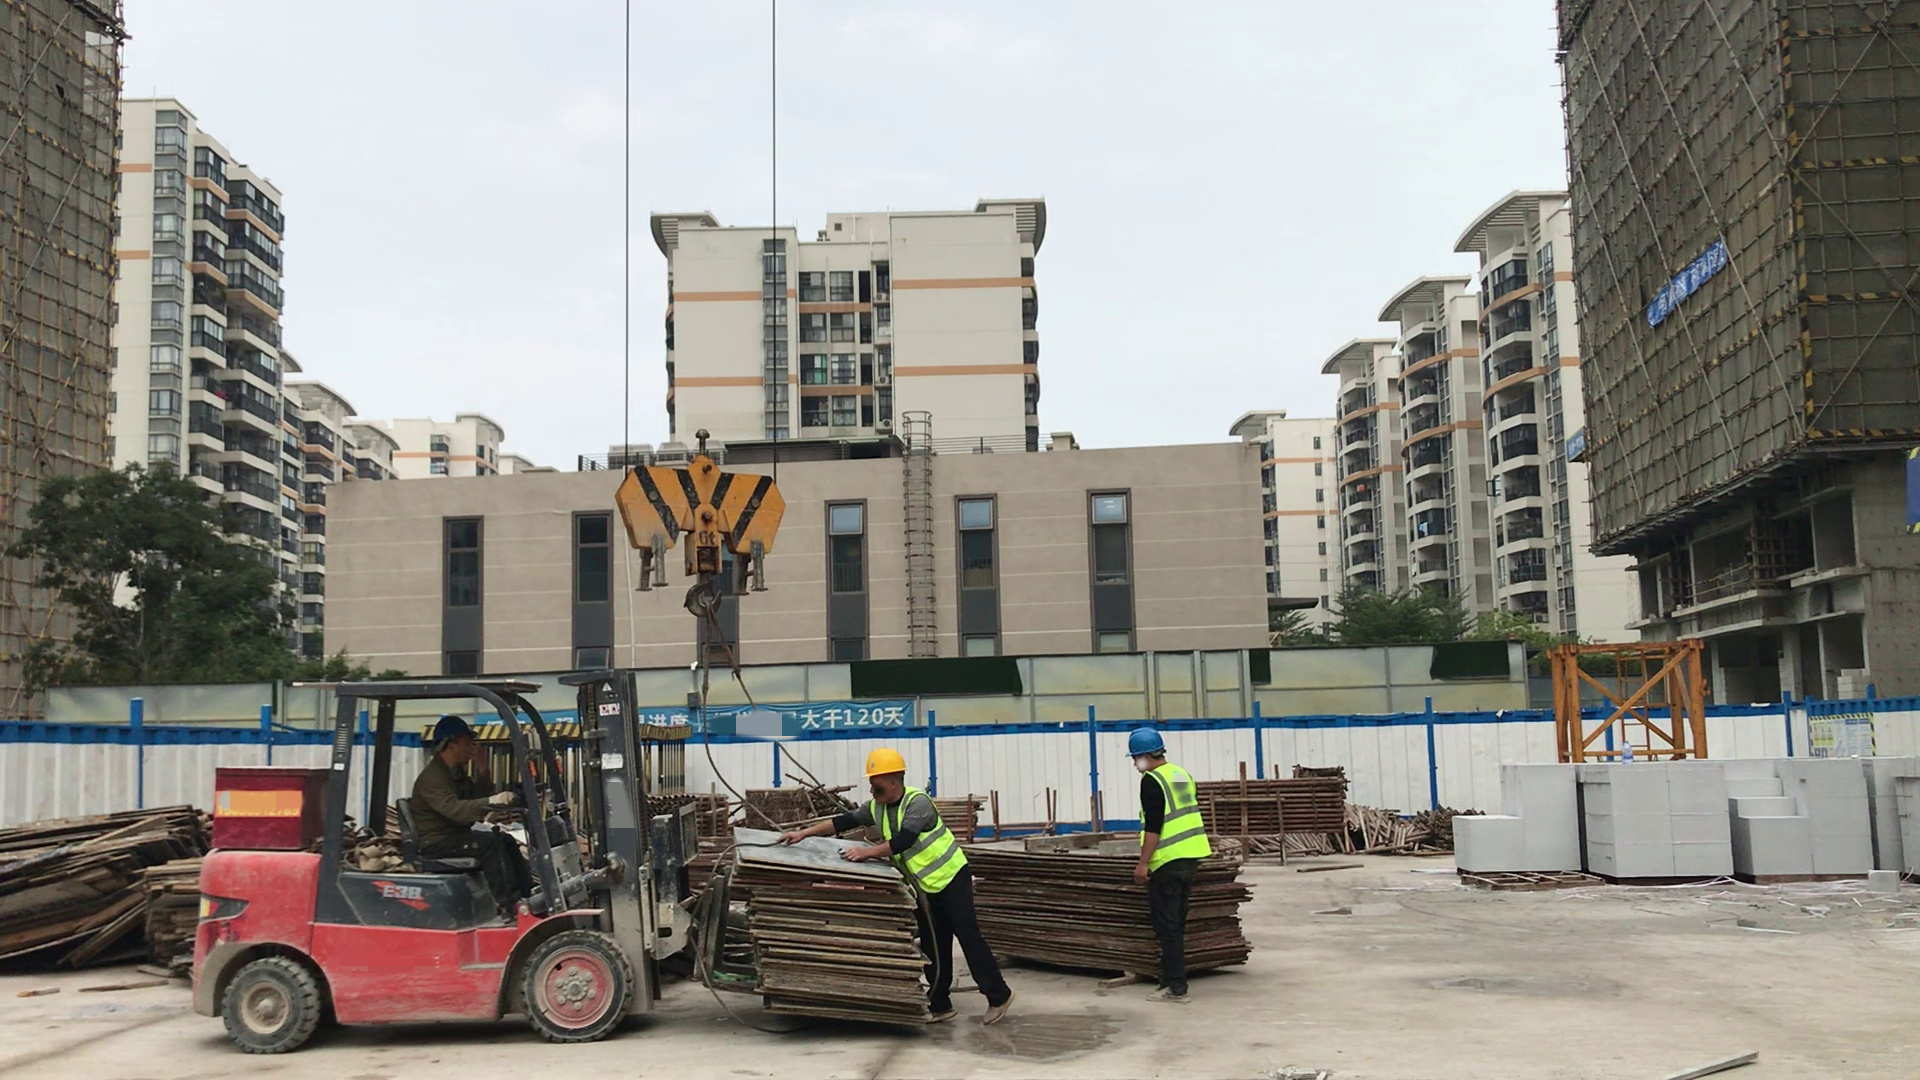board: (941, 808, 1264, 1005), (710, 809, 958, 1045), (2, 780, 213, 1001)
brick: (1441, 745, 1920, 913)
helmet: (417, 707, 475, 758), (861, 749, 920, 788), (1128, 722, 1175, 768)
hook: (599, 431, 837, 619)
person: (770, 729, 1062, 1023), (1097, 703, 1263, 1027), (397, 704, 543, 919)
scaffold: (1196, 770, 1372, 845), (660, 788, 746, 840), (935, 781, 996, 842)
slogan: (484, 693, 946, 753), (1631, 228, 1745, 339), (1798, 707, 1887, 766), (1552, 424, 1596, 472)
vest: (860, 795, 976, 911), (1141, 766, 1214, 880)
